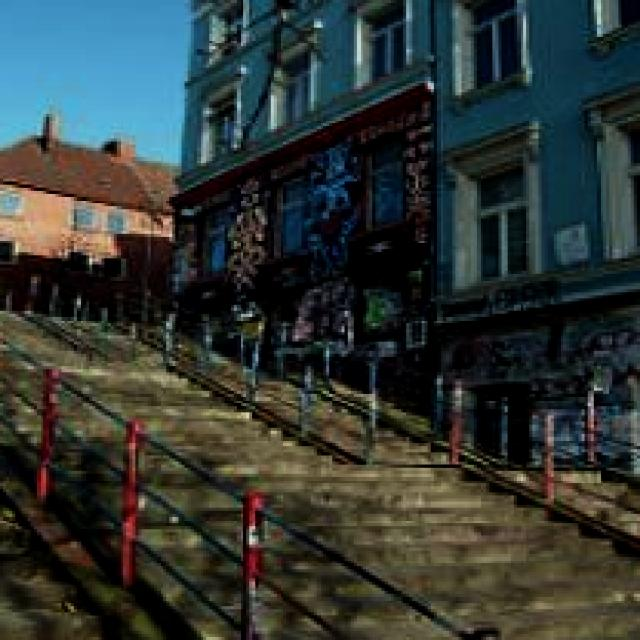upstair: (219, 438, 640, 640)
